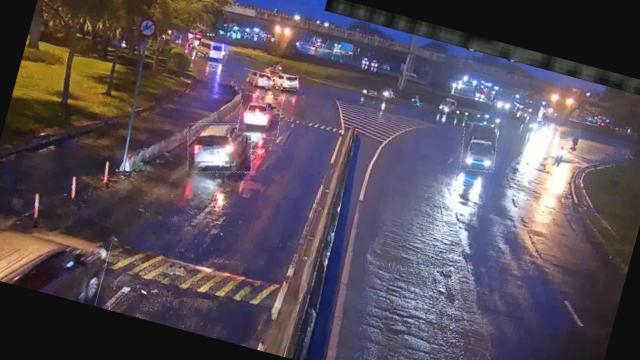Car: (0, 209, 111, 306), (179, 112, 259, 183), (232, 90, 284, 142), (240, 68, 278, 92), (268, 72, 300, 93)
Truck: (454, 119, 502, 175)
